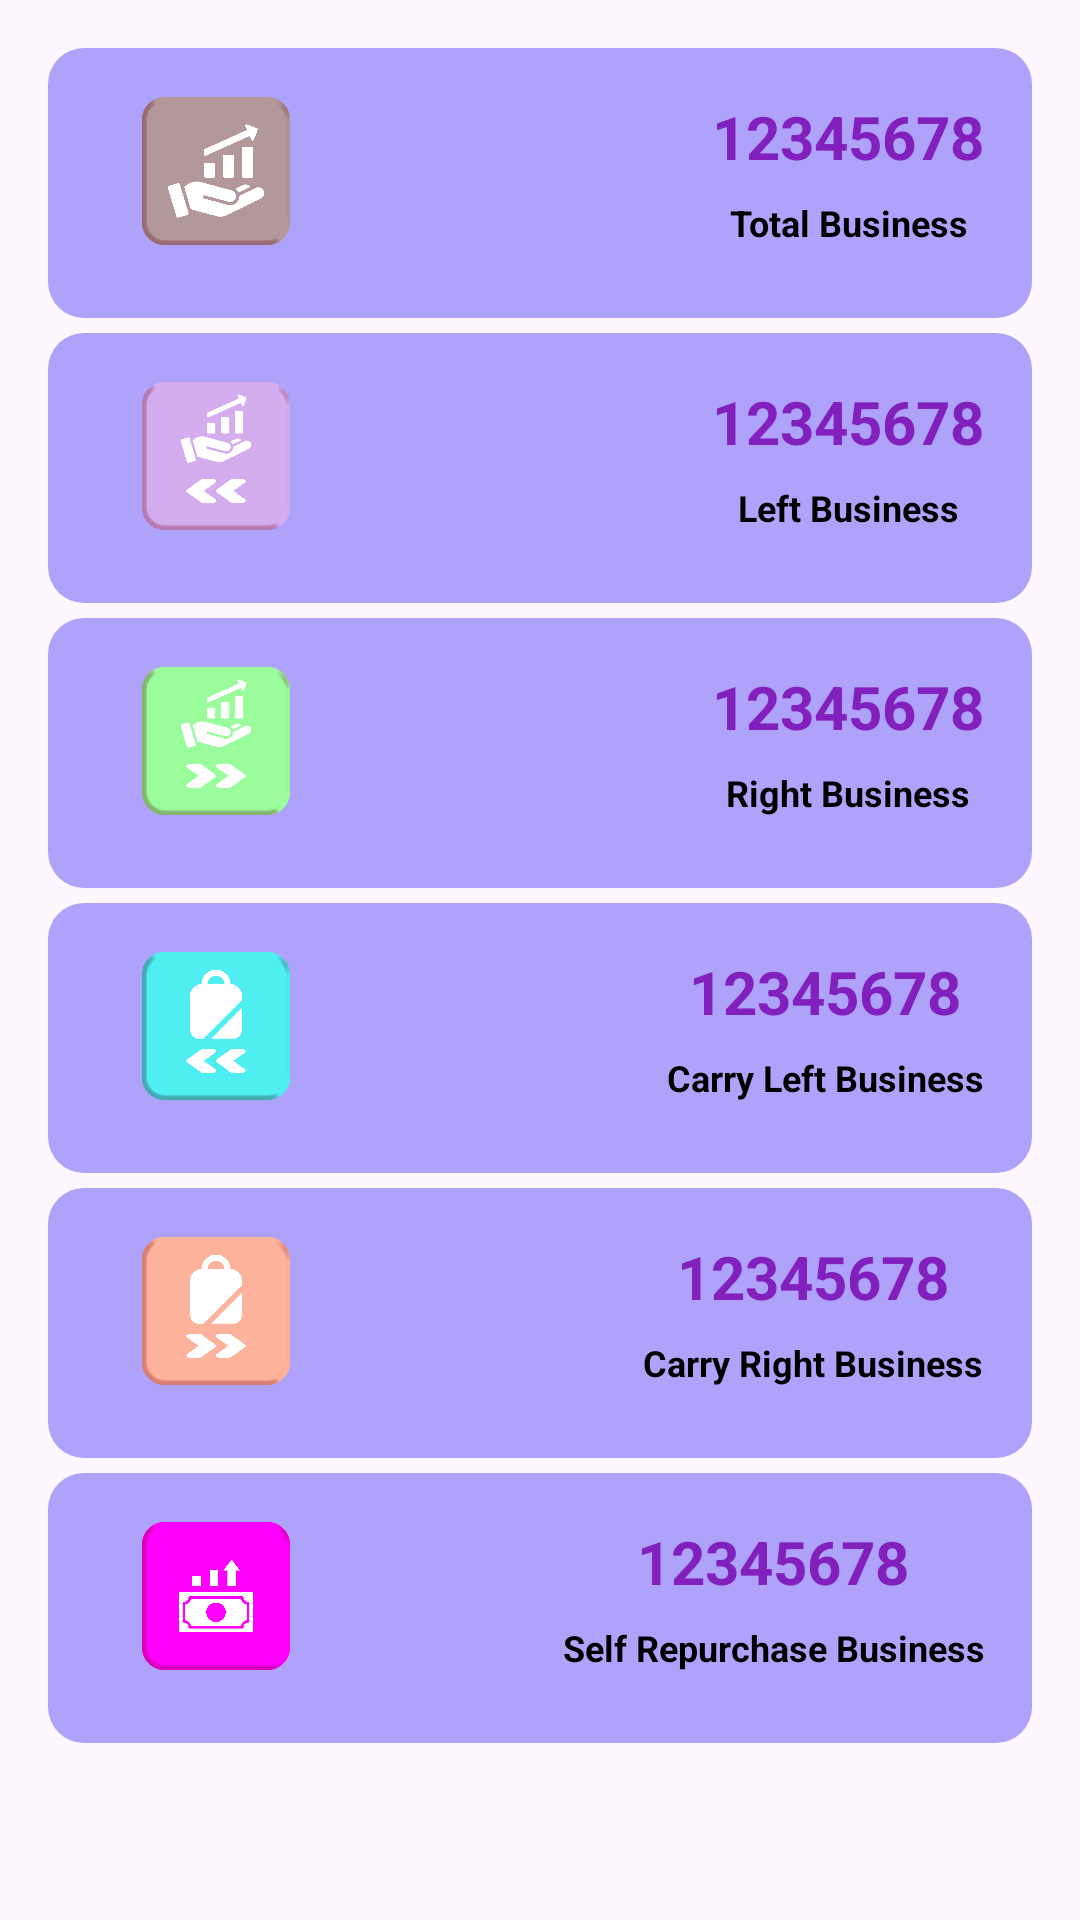

Named icons in this screenshot (1080 x 1920) and their centers, (x,y):
carry left: (216,1026)
carry right: (216,1311)
self repurchase business: (216,1596)
total business: (216,171)
total left business: (216,456)
total right business: (216,741)
